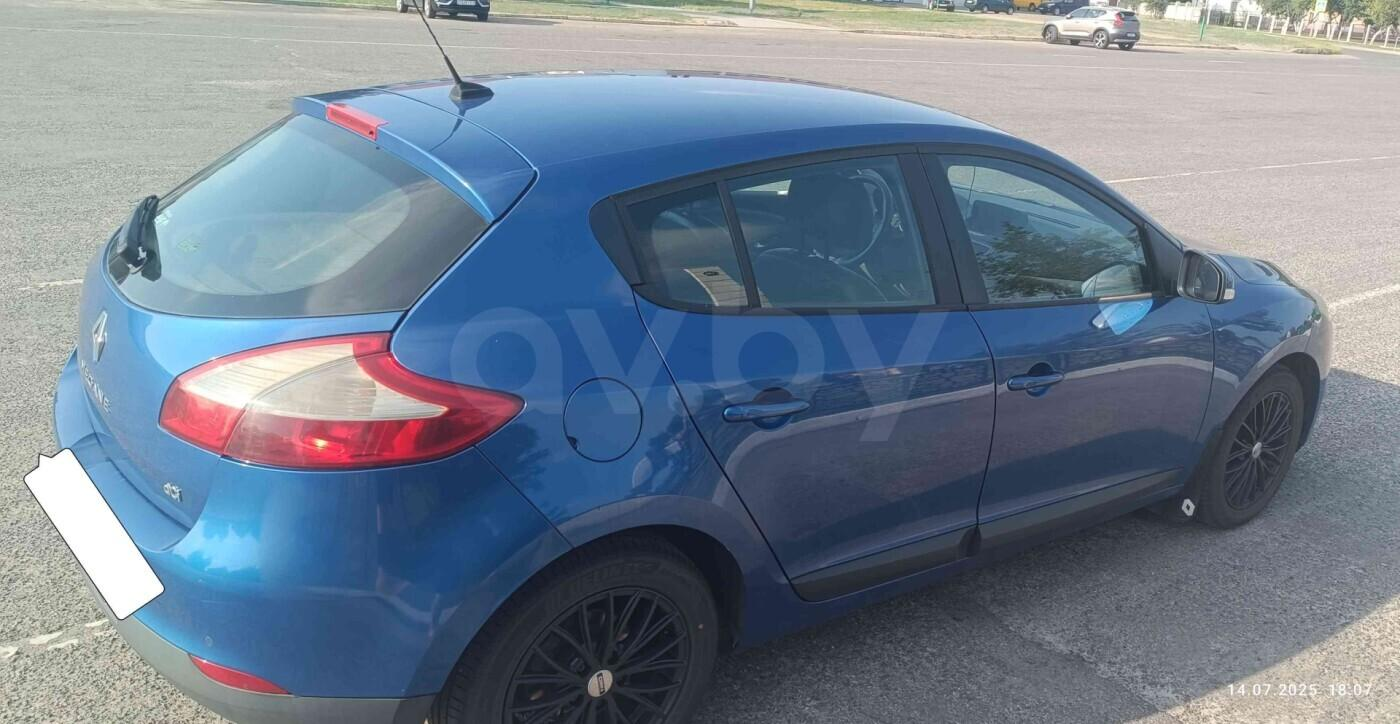Megane_2008-2014: (40, 67, 1340, 724)
